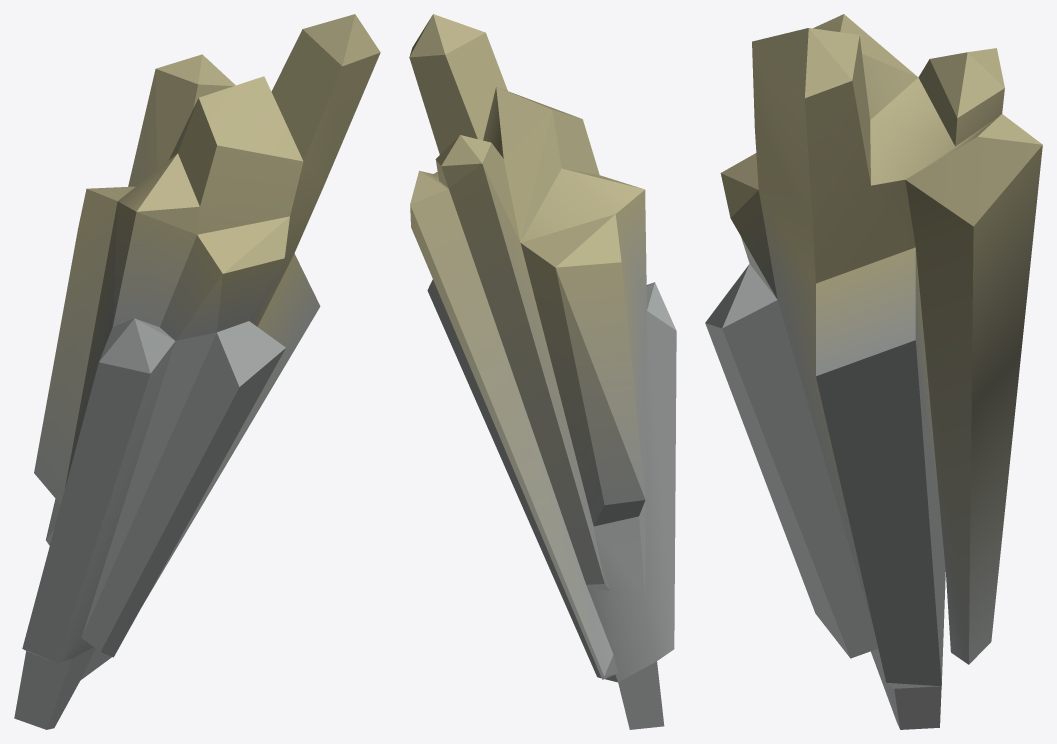
The picture shows the model from 3 angles, left to right: view 1: azimuth 30°, elevation 25°; view 2: azimuth 150°, elevation 25°; view 3: azimuth 270°, elevation 25°; orthographic projection. The views are drawn at different scales.
Parts seen in each view (by area): view 1: G:\FFXIV-MapTools\exports\l1f1\bg\ffxiv\lak_l1\fld\l1f1\bgpa; view 2: G:\FFXIV-MapTools\exports\l1f1\bg\ffxiv\lak_l1\fld\l1f1\bgpa; view 3: G:\FFXIV-MapTools\exports\l1f1\bg\ffxiv\lak_l1\fld\l1f1\bgpa.
Part boxes in pixels (<box>): G:\FFXIV-MapTools\exports\l1f1\bg\ffxiv\lak_l1\fld\l1f1\bgpa: <box>14,14,380,729</box>; G:\FFXIV-MapTools\exports\l1f1\bg\ffxiv\lak_l1\fld\l1f1\bgpa: <box>409,14,676,729</box>; G:\FFXIV-MapTools\exports\l1f1\bg\ffxiv\lak_l1\fld\l1f1\bgpa: <box>705,14,1042,729</box>.
Size of the model in its own units: 1.92 by 3.85 by 1.36.
